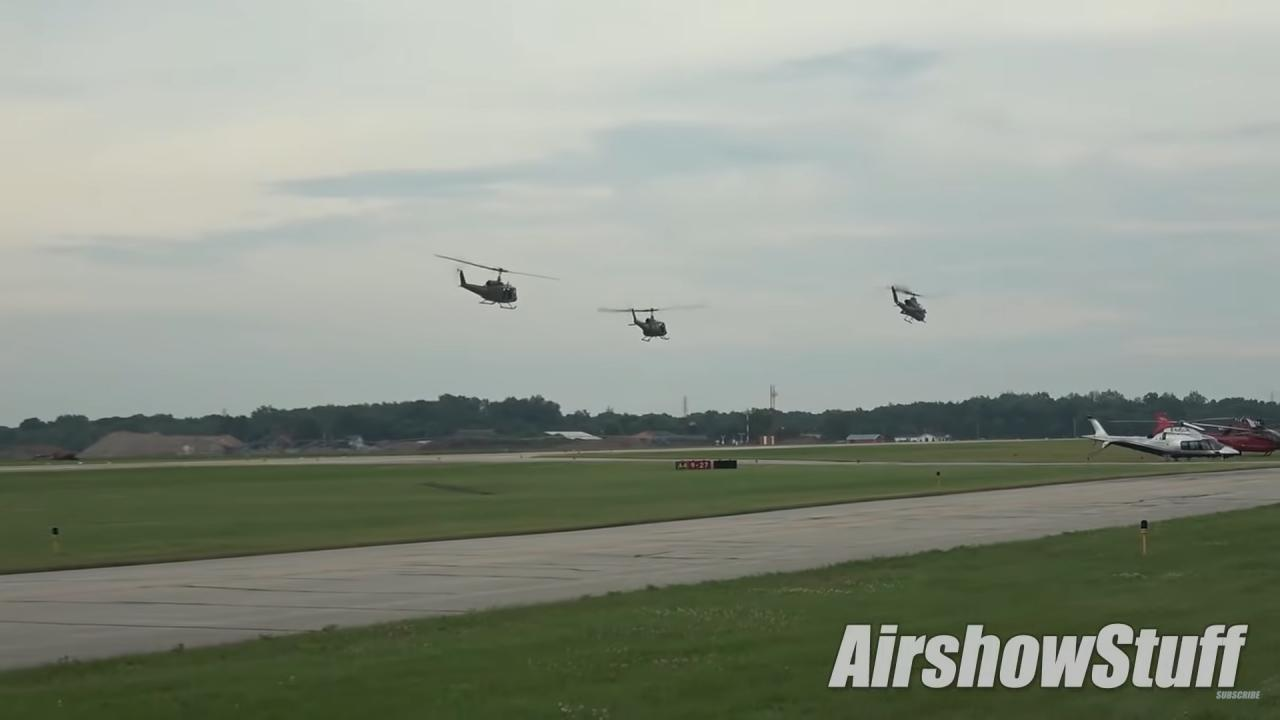Helicopter: (418, 241, 576, 329), (589, 290, 720, 362), (863, 272, 965, 338)
